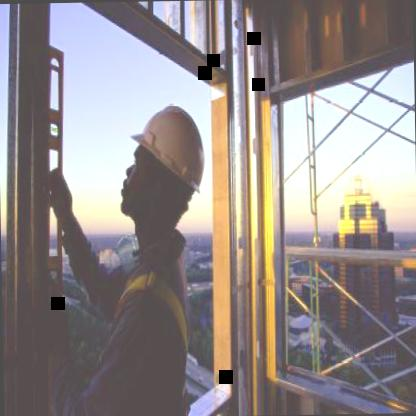helmet: (120, 82, 216, 252)
